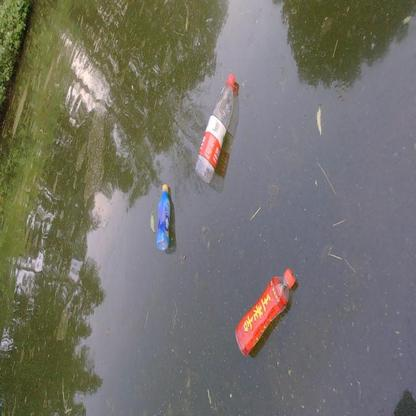plastic bottle: (234, 269, 297, 355), (195, 72, 238, 181), (158, 184, 171, 250)
